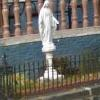Statue: (26, 4, 71, 77)
